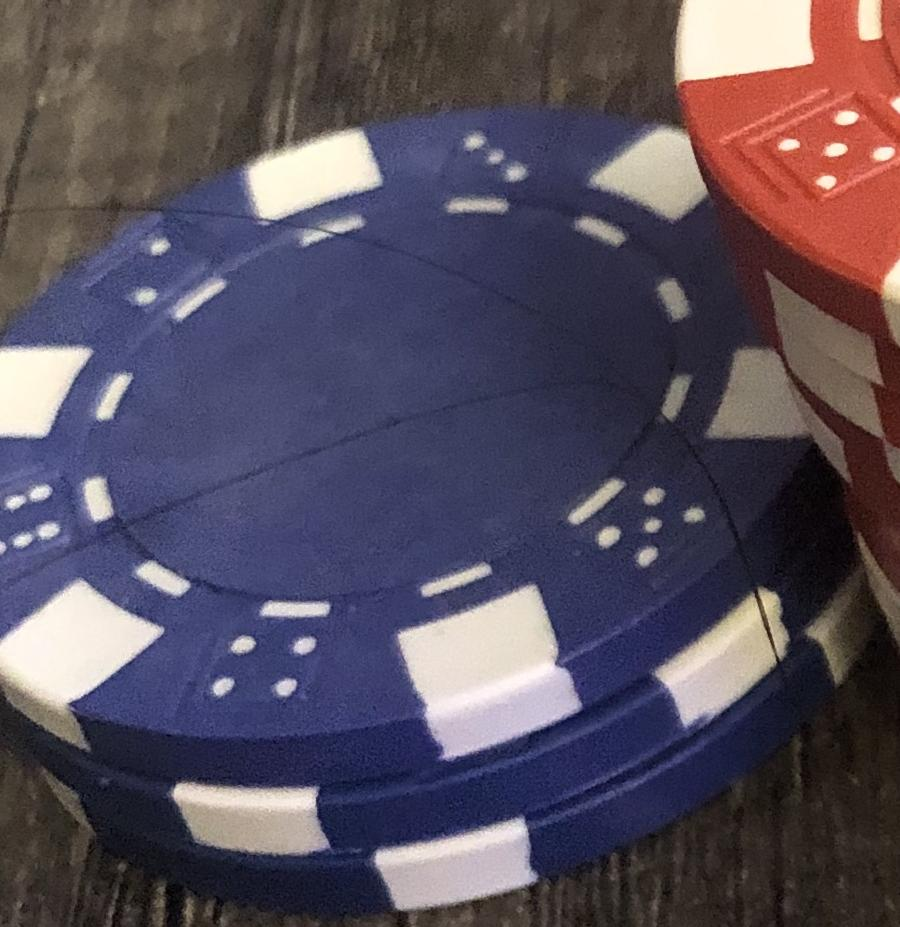Chip: (1, 1, 900, 927)
